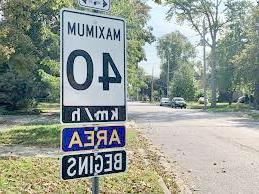speed limit sign: (60, 11, 126, 121)
